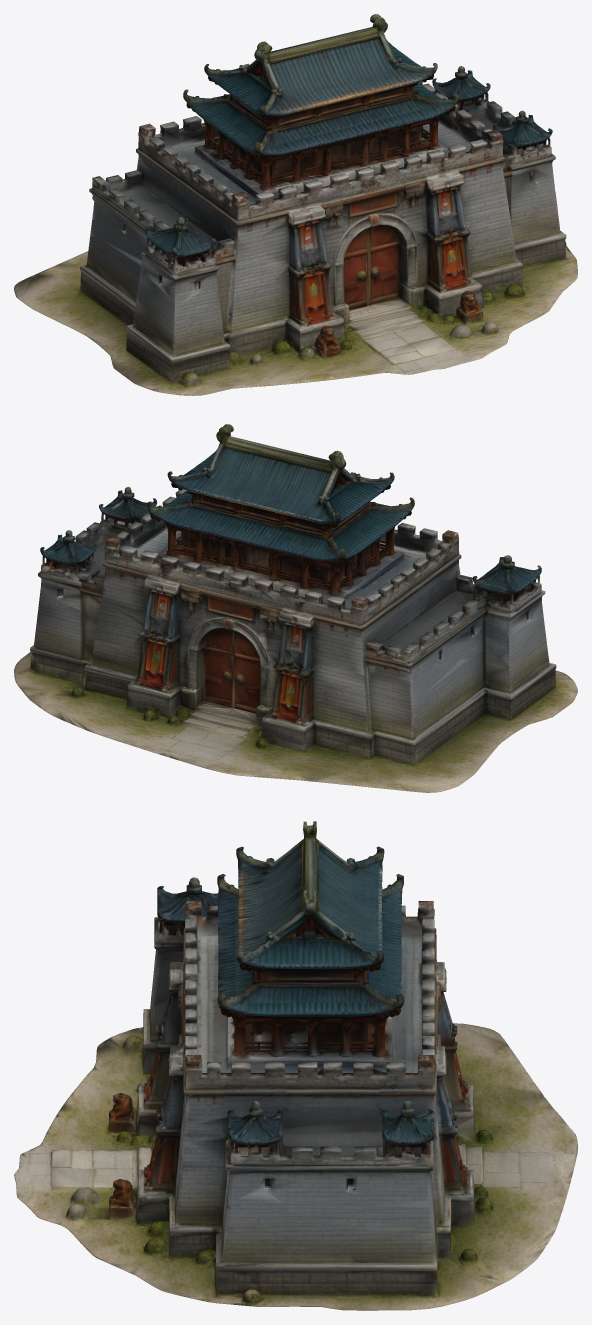
File: ZhuqueGate.glb
3 renders of one model, top to bottom at view 1: azimuth 30°, elevation 25°; view 2: azimuth 150°, elevation 25°; view 3: azimuth 270°, elevation 25°, orthographic. The views are drawn at different scales.
Visible parts, largest first — view 1: node_0; view 2: node_0; view 3: node_0.
Boxes of the visible parts, left/top/right/bottom form: node_0: left=14, top=14, right=577, bottom=395; node_0: left=14, top=424, right=577, bottom=792; node_0: left=14, top=821, right=577, bottom=1310.
Bounding box in the file's own units: 0.9752 × 0.5008 × 0.8103.
1 material, 1 textured.
